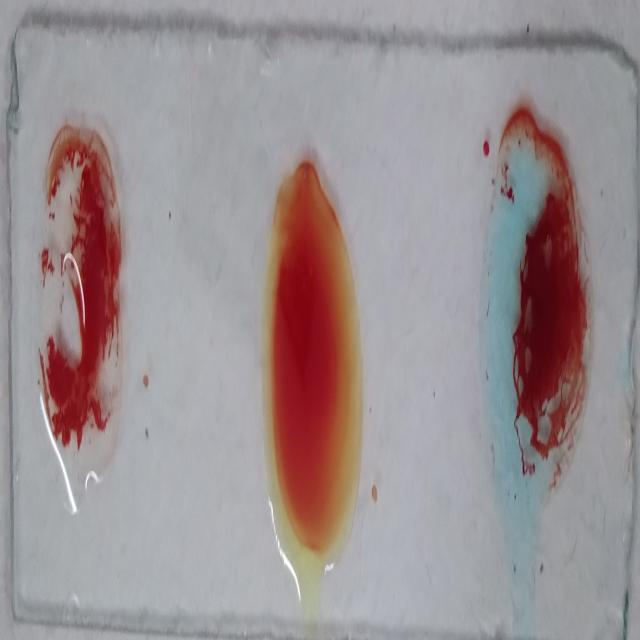A: (488, 96, 596, 550)
D: (35, 121, 130, 520)
